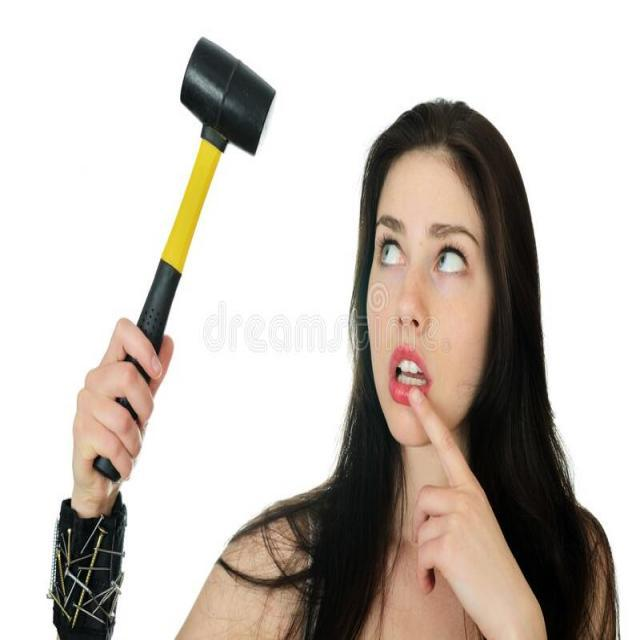hammer: (85, 18, 281, 494)
